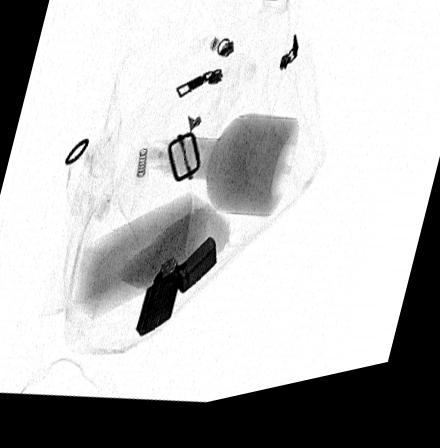Lighter: (135, 244, 217, 342)
